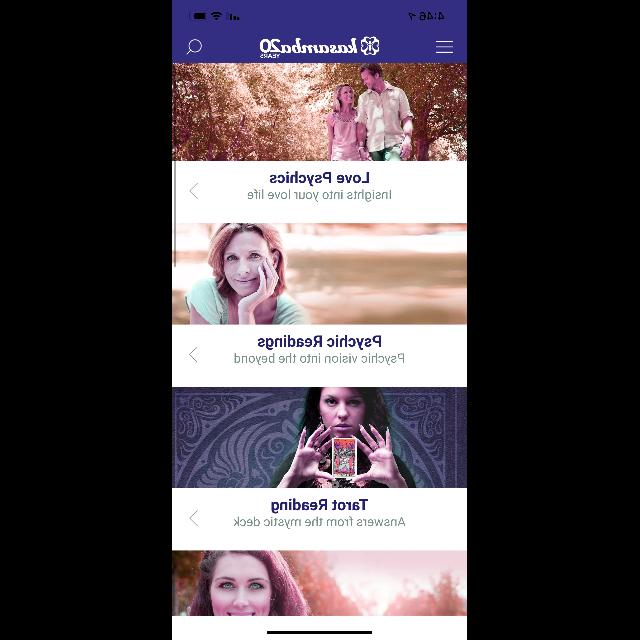icon: (188, 40, 202, 54), (437, 41, 453, 53), (190, 510, 198, 526), (190, 348, 198, 362), (190, 184, 198, 198)
image: (172, 223, 468, 324), (172, 388, 468, 488), (172, 63, 468, 161), (172, 550, 468, 616), (260, 36, 380, 58)
text: (234, 517, 406, 529), (235, 353, 405, 365), (258, 334, 382, 350), (248, 190, 392, 202), (272, 498, 368, 514), (270, 172, 370, 186)
uppertaskbar: (188, 12, 444, 20)
